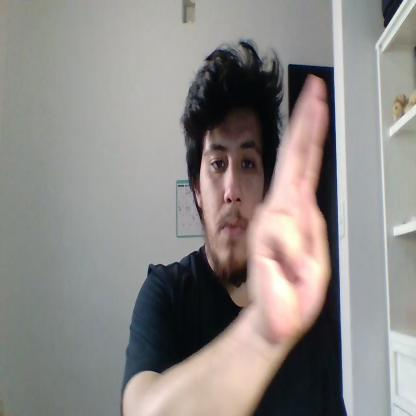R: (248, 74, 332, 340)
